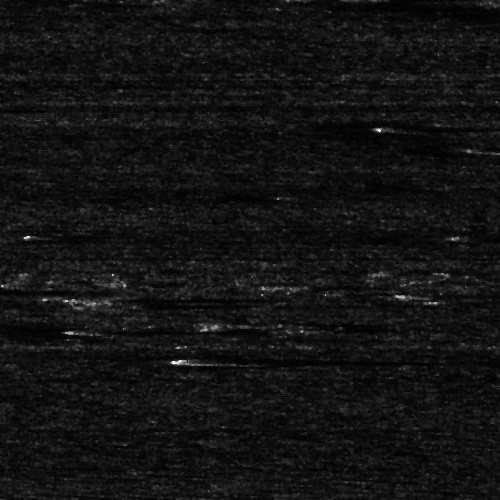object: (45, 292, 138, 303), (158, 355, 231, 364), (385, 290, 448, 295), (358, 124, 399, 131), (461, 146, 500, 153), (456, 232, 497, 237), (59, 327, 112, 330)
shadow: (194, 355, 500, 364), (91, 292, 284, 303), (379, 124, 500, 131), (86, 327, 281, 330), (0, 286, 51, 293), (417, 290, 487, 295), (477, 232, 500, 237), (0, 106, 18, 111), (488, 146, 500, 153)
